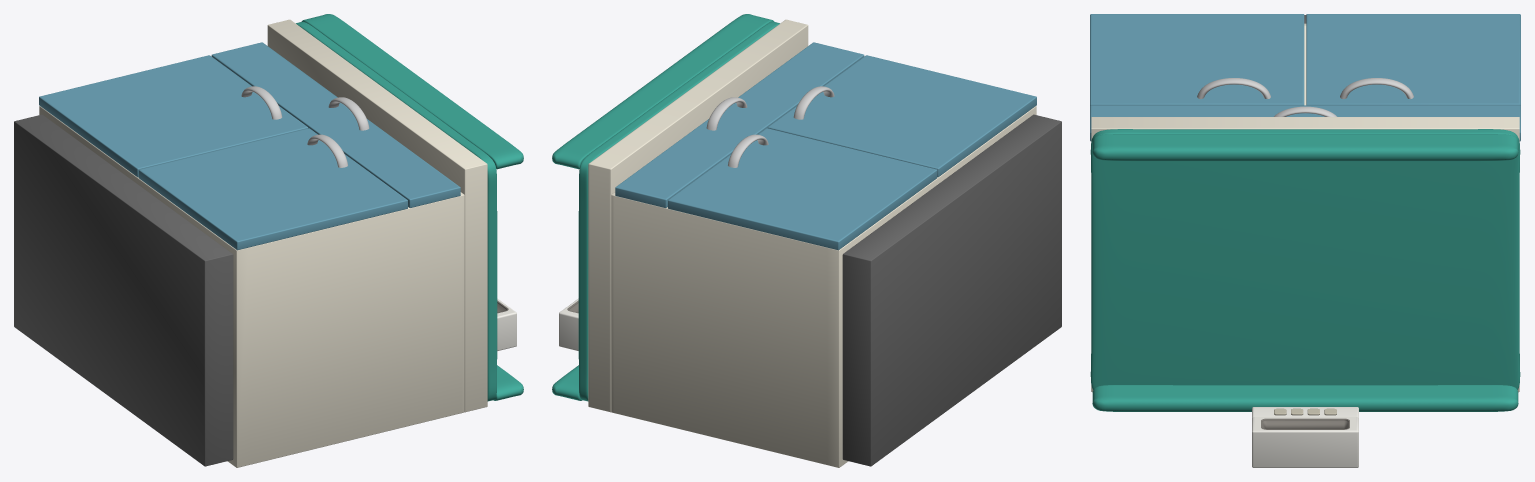
The model's file is Mesa.fbx.
3 renders of one model, left to right at view 1: azimuth 30°, elevation 25°; view 2: azimuth 150°, elevation 25°; view 3: azimuth 270°, elevation 25°, orthographic. The views are drawn at different scales.
Visible parts, largest first — view 1: PediatricExaminationTable_01; view 2: PediatricExaminationTable_01; view 3: PediatricExaminationTable_01.
Boxes of the visible parts, <box> form: PediatricExaminationTable_01: <box>14,14,523,467</box>; PediatricExaminationTable_01: <box>552,14,1061,467</box>; PediatricExaminationTable_01: <box>1090,14,1520,467</box>.
Bounding box in the file's own units: 52953 × 34691 × 47480.
